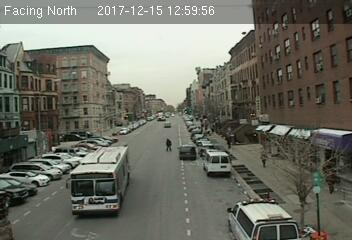bus: (65, 146, 130, 218)
pedestrian: (260, 150, 268, 168), (164, 137, 173, 153)
police: (223, 196, 302, 240)
truck: (202, 151, 232, 175)
